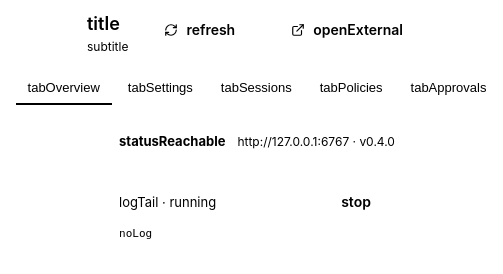
Test case: WorkspaceConsole › mirrors workspace sessions and agents read-only
Expected: the text "statusReachable" is shown, [119,133,225,149]
Click the button "tabSessions": [256, 88] box [209,72,304,105]
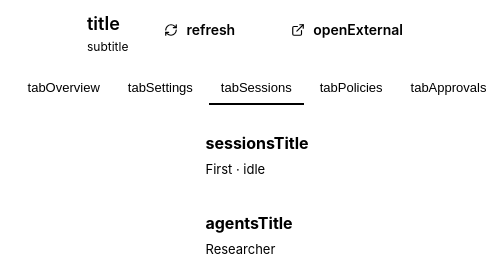
Expected: the list item "First · idle" is shown, [206,161,265,177]
Expected: the list item "Researcher" is shown, [206,241,275,257]
